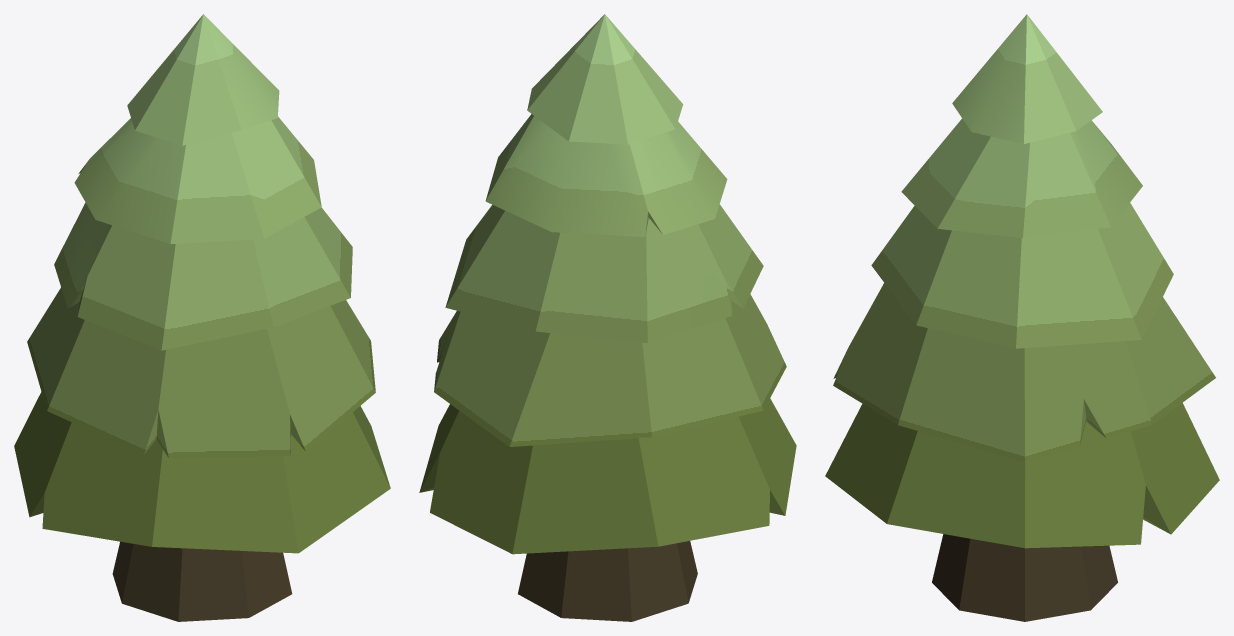
File: sapin-2.glb
3 views of the same model, side by side, from view 1: azimuth 30°, elevation 25°; view 2: azimuth 150°, elevation 25°; view 3: azimuth 270°, elevation 25° (orthographic).
Parts seen in each view (by area): view 1: Object_41; view 2: Object_41; view 3: Object_41.
Boxes of the visible parts, <box> form: Object_41: <box>14,14,390,621</box>; Object_41: <box>419,14,796,621</box>; Object_41: <box>825,14,1219,621</box>.
Size of the model in its own units: 2.97 by 4.79 by 3.01.
Materials: 1 (1 with a texture image).
